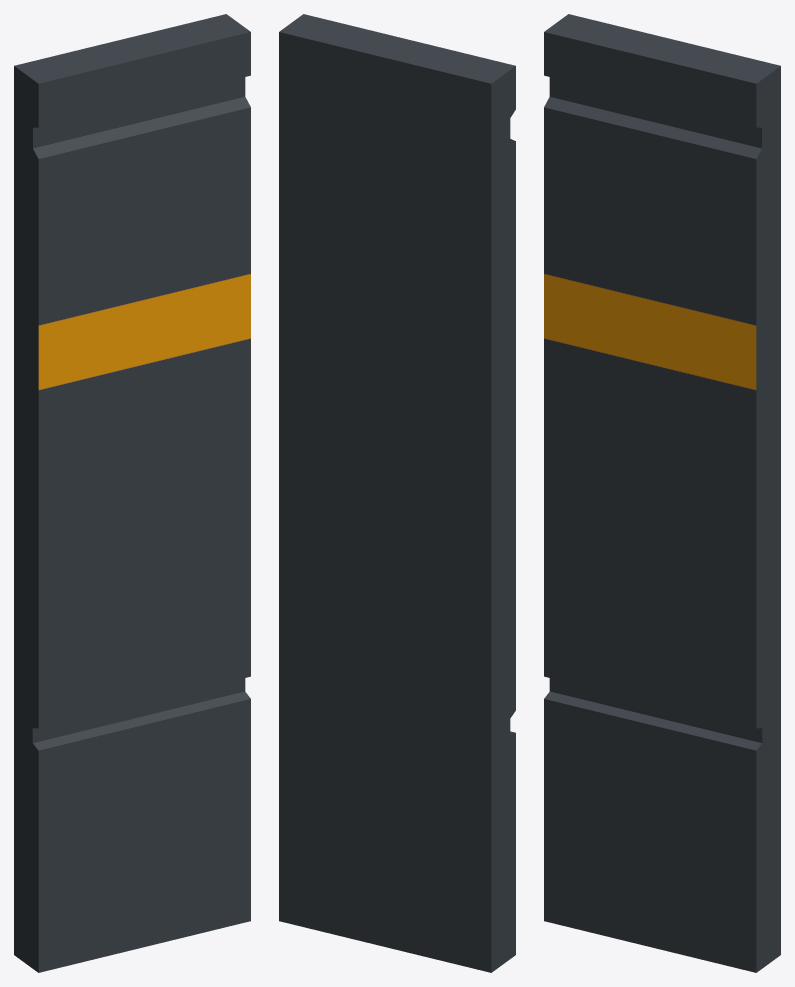
The model's file is NLIWallShort.glb.
The picture shows the model from 3 angles, left to right: view 1: azimuth 30°, elevation 25°; view 2: azimuth 150°, elevation 25°; view 3: azimuth 330°, elevation 25°; orthographic projection.
Visible parts, largest first — view 1: Cube; view 2: Cube; view 3: Cube.
Part boxes in pixels (x1=…): Cube: x1=14, y1=14, x2=250, y2=972; Cube: x1=279, y1=14, x2=515, y2=972; Cube: x1=544, y1=14, x2=780, y2=972.
Bounding box in the file's own units: 1 × 4 × 0.2.
2 materials, 1 textured.
